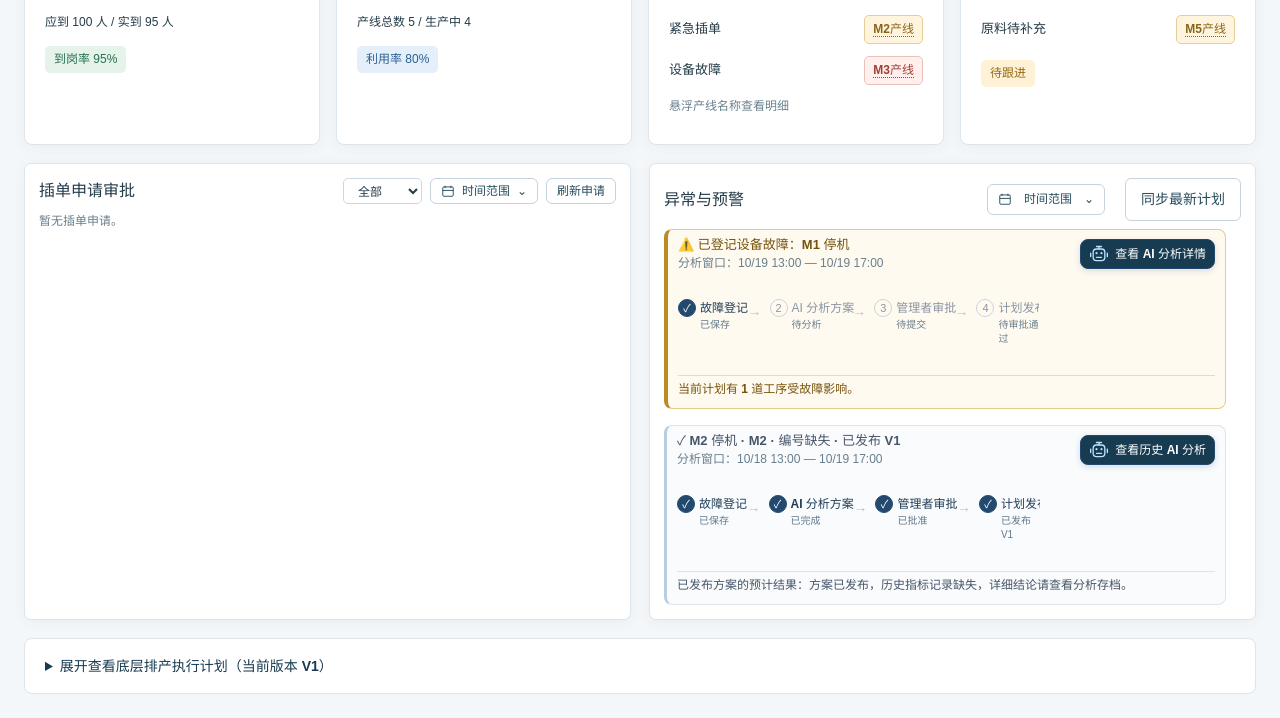
it: lists published history, filters duplicate outage revisions and isolates missing archives
(page scrolled)
Expected: the element named "历史故障 M2 · 编号缺失" shows "历史指标记录缺失", [809,578,1133,592]
Click the button "查看历史 AI 分析": (1148,450) [1080,435,1215,465]
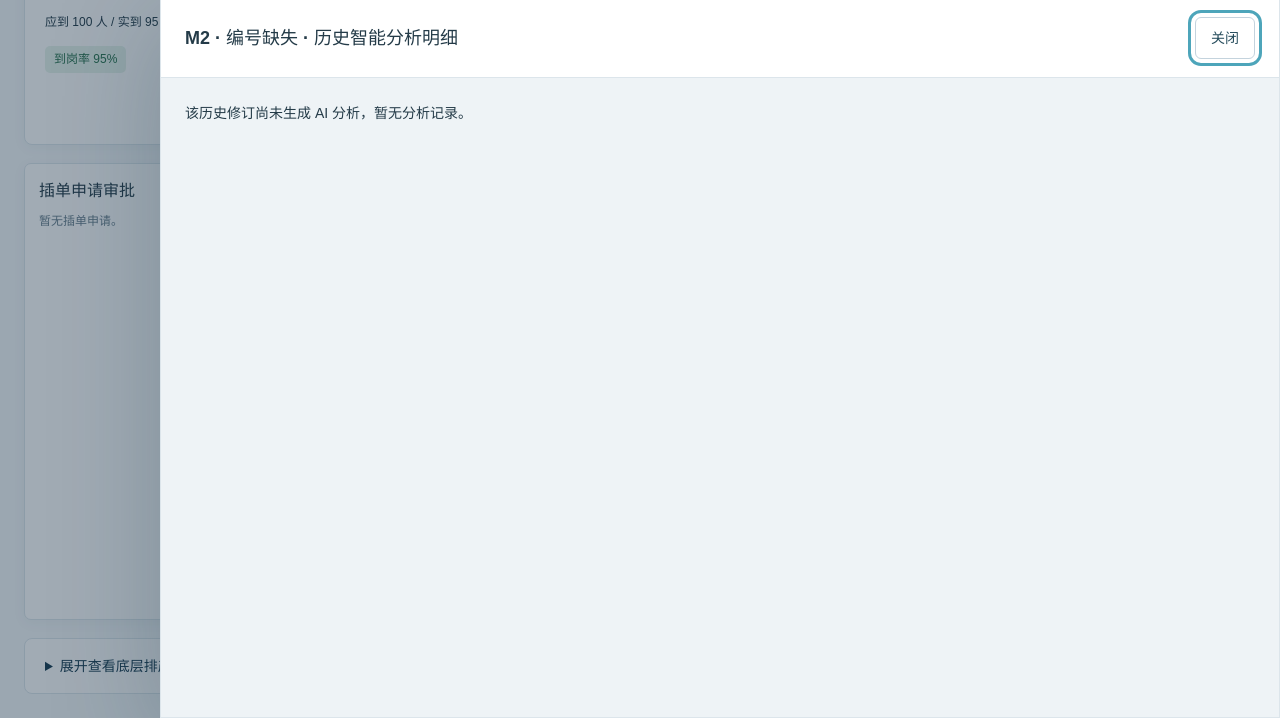
Now the text "该历史修订尚未生成 AI 分析，暂无分析记录。" is shown, box [185,105,472,121]
